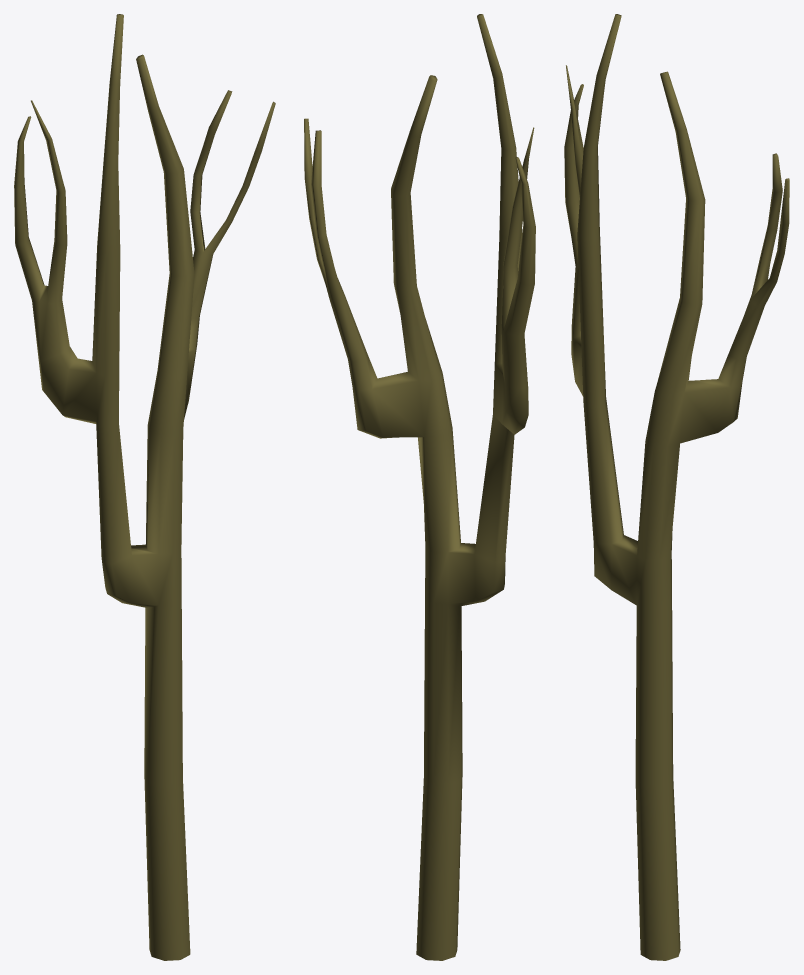
Rendered from tree_02.fbx.
3 renders of one model, left to right at view 1: azimuth 30°, elevation 25°; view 2: azimuth 150°, elevation 25°; view 3: azimuth 330°, elevation 25°, orthographic. The views are drawn at different scales.
Visible parts, largest first — view 1: tree_02; view 2: tree_02; view 3: tree_02.
Boxes of the visible parts, x1,y1,x2,y2 form: tree_02: [14, 14, 275, 960]; tree_02: [304, 14, 535, 960]; tree_02: [564, 14, 789, 960].
Bounding box in the file's own units: 13.4 × 49.36 × 5.49.
